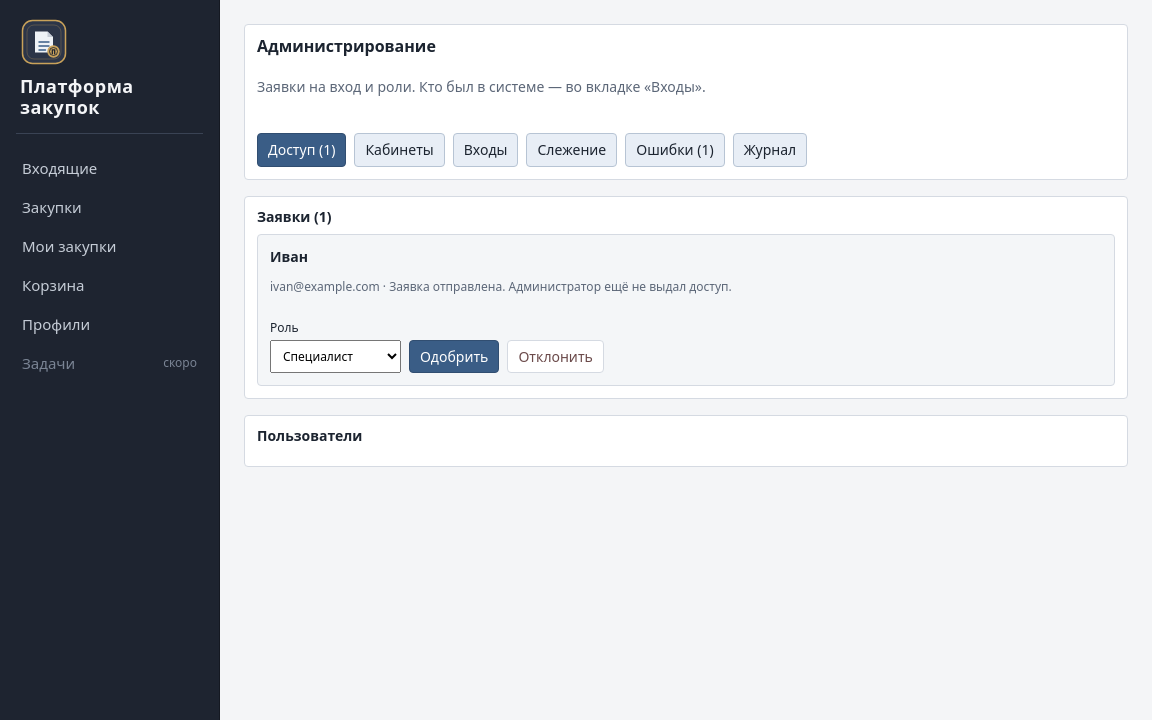
Test: AdminApp › opens errors without mixing them with access requests
Expected: the text "Иван" is shown, x1=270 y1=247 x2=308 y2=266
Click the link "Ошибки (1)".
click(675, 150)  # box x1=625 y1=133 x2=725 y2=167
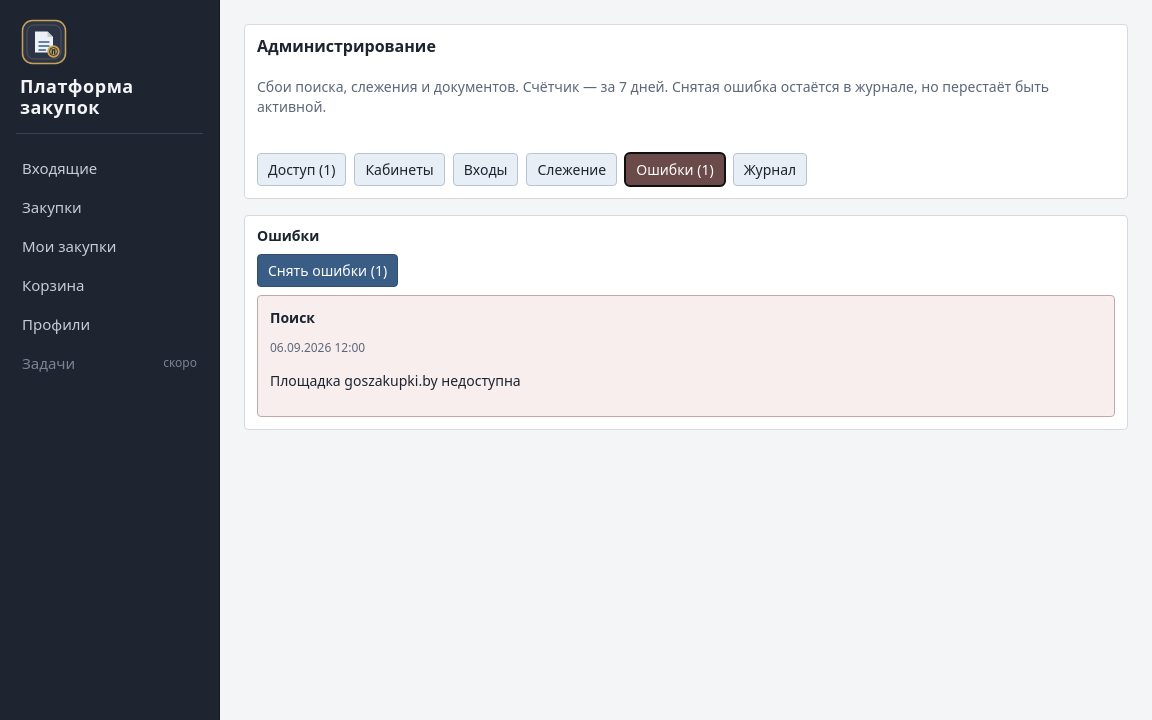
Now the text "Площадка goszakupki.by недоступна" is shown, box x1=270 y1=371 x2=521 y2=390
Now the text "Иван" is gone
Now the button "Одобрить" is gone
